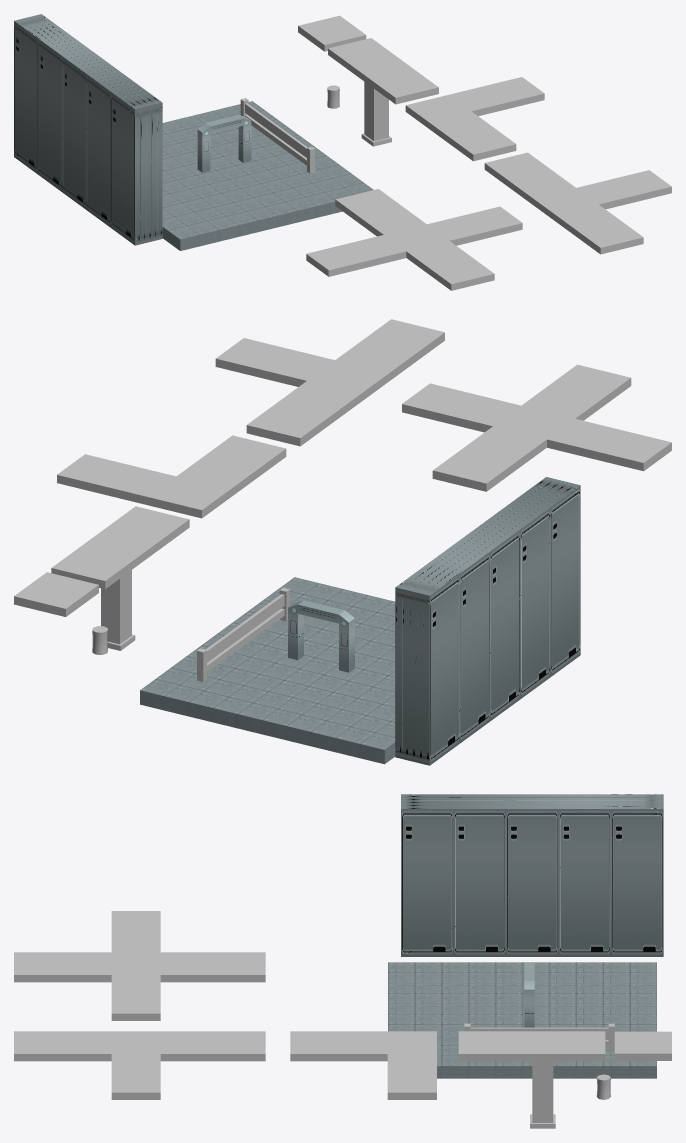
File: StageSet.FBX
3 views of the same model, one above another, from view 1: azimuth 30°, elevation 25°; view 2: azimuth 150°, elevation 25°; view 3: azimuth 270°, elevation 25° (orthographic). The views are drawn at different scales.
Parts seen in each view (by area): view 1: Wall, Floor, Platform4, Platform2, Platform3, Platform1, Box03, Fence, Platform5, Pillar; view 2: Wall, Floor, Platform4, Platform2, Platform3, Platform1, Platform5, Fence, Box03, Pillar; view 3: Wall, Floor, Platform4, Platform2, Platform3, Platform1, Platform5, Pillar, Fence, Box03.
Boxes of the visible parts, x1,y1,x2,y2 form: Wall: [14, 14, 162, 245]; Floor: [162, 101, 373, 250]; Platform4: [306, 189, 522, 290]; Platform2: [484, 152, 671, 254]; Platform3: [405, 77, 544, 161]; Platform1: [328, 38, 438, 104]; Box03: [197, 115, 251, 172]; Fence: [240, 98, 315, 173]; Platform5: [298, 15, 366, 51]; Pillar: [361, 82, 391, 146]; Wall: [395, 477, 580, 765]; Floor: [140, 577, 395, 764]; Platform4: [402, 364, 671, 491]; Platform2: [215, 319, 444, 446]; Platform3: [57, 435, 286, 518]; Platform1: [51, 506, 189, 589]; Platform5: [14, 572, 98, 616]; Fence: [197, 587, 289, 681]; Box03: [288, 600, 354, 672]; Pillar: [101, 570, 135, 650]; Wall: [401, 794, 663, 956]; Floor: [388, 962, 656, 1078]; Platform4: [14, 911, 265, 1020]; Platform2: [14, 1031, 265, 1099]; Platform3: [290, 1031, 436, 1099]; Platform1: [458, 1031, 605, 1061]; Platform5: [614, 1031, 671, 1060]; Pillar: [530, 1061, 555, 1128]; Fence: [464, 1023, 614, 1052]; Box03: [524, 963, 534, 1027].
Bounding box in the file's own units: 285 × 104 × 371.
